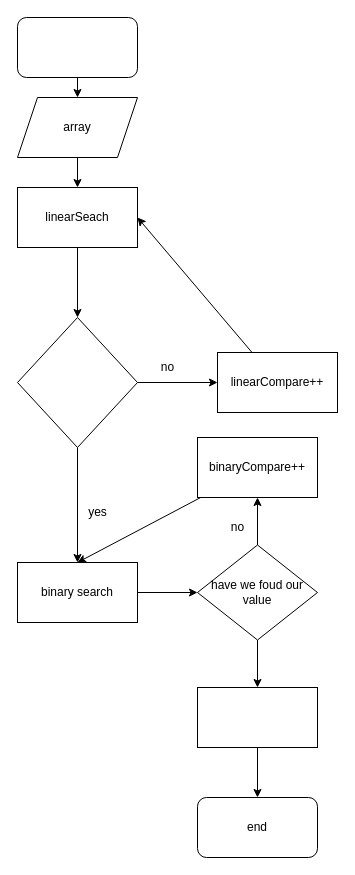
The diagram is 355 pixels wide and 875 high, and some of its shapes have lost their labels. The centre of each missing label's shape, as x and y in pixels:
"cout linear compare & binary compare" belongs at point 257,717.
"have we found our value?" belongs at point 77,382.
"start" belongs at point 77,47.
